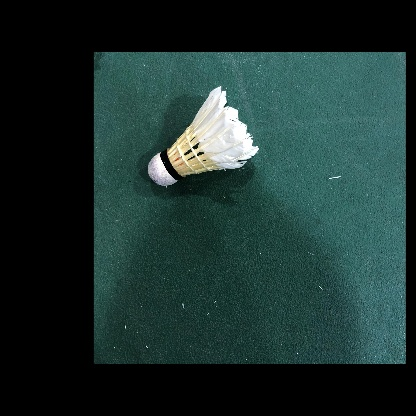ball_single: (148, 86, 259, 186)
